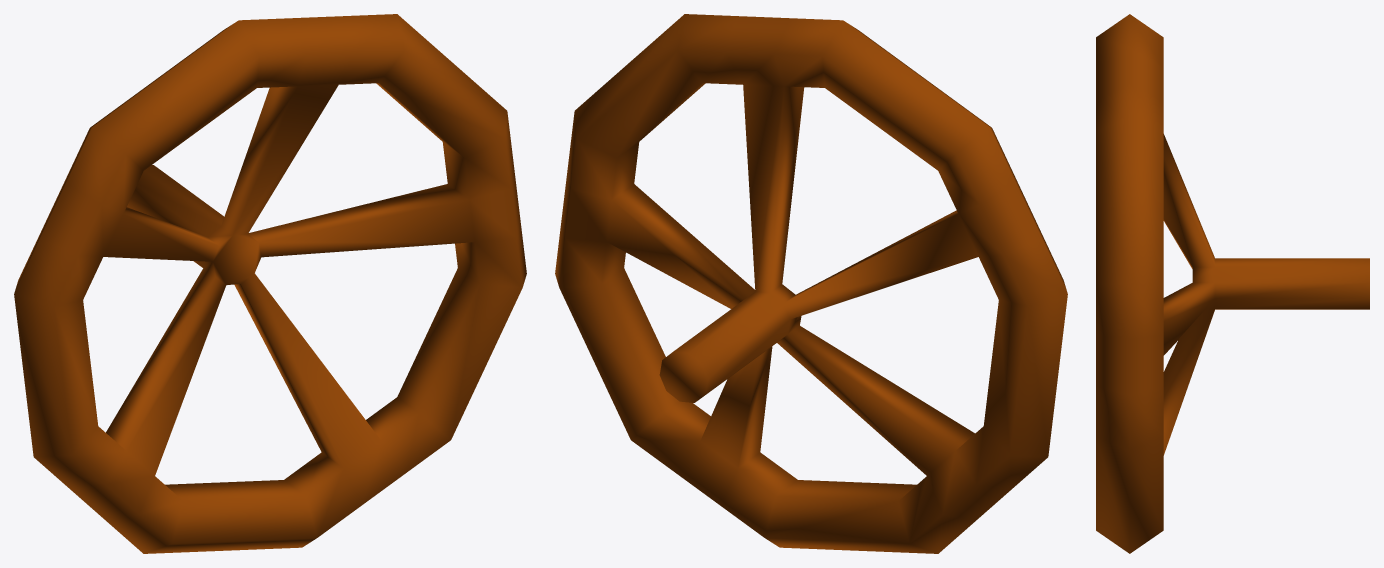
Rendered from valve.glb.
The picture shows the model from 3 angles, left to right: view 1: azimuth 30°, elevation 25°; view 2: azimuth 150°, elevation 25°; view 3: azimuth 270°, elevation 25°; orthographic projection. The views are drawn at different scales.
Visible parts, largest first — view 1: Valve; view 2: Valve; view 3: Valve.
Boxes of the visible parts, x1=… form: Valve: x1=14, y1=14, x2=526, y2=553; Valve: x1=555, y1=14, x2=1067, y2=553; Valve: x1=1096, y1=14, x2=1369, y2=553.
Bounding box in the file's own units: 0.3141 × 0.3176 × 0.1544.
